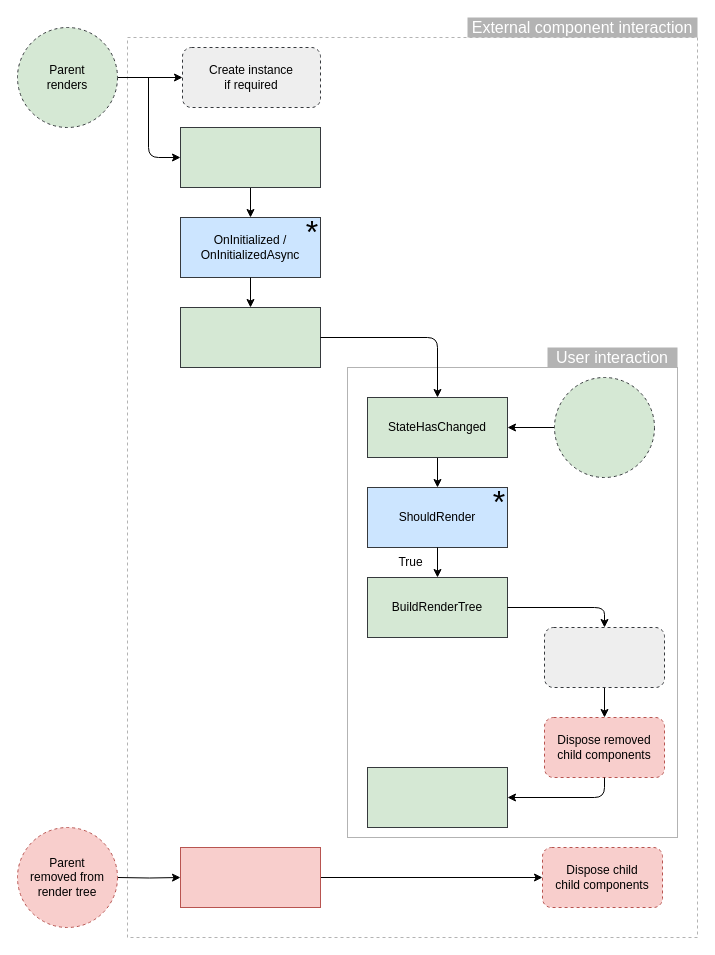
Some shapes in this 715 by 955 pixel diagram are drawn without their labels. The shapes that lost their labels are listed below. From the top down, each one's centre as x and y in pixels, then its label:
At point 250,157: "SetParametersAsync".
At point 250,337: "OnParametersSet / OnParametersSetAsync".
At point 604,427: "Events".
At point 604,657: "Create added child components".
At point 437,797: "OnAfterRender / OnAfterRenderAsync".
At point 250,877: "IDisposable.Dispose".
